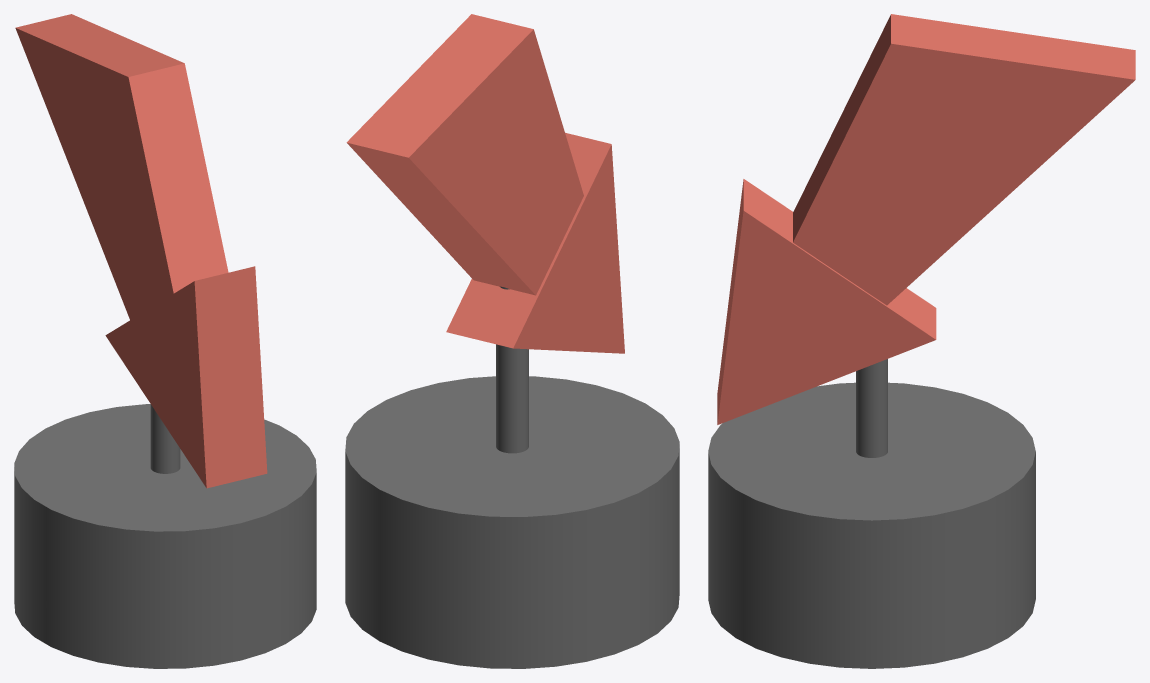
File: PowerUpSmall.fbx
The picture shows the model from 3 angles, left to right: view 1: azimuth 30°, elevation 25°; view 2: azimuth 150°, elevation 25°; view 3: azimuth 270°, elevation 25°; orthographic projection. The views are drawn at different scales.
Parts seen in each view (by area): view 1: PowerUpSmall; view 2: PowerUpSmall; view 3: PowerUpSmall.
Boxes of the visible parts, <box> form: PowerUpSmall: <box>14,14,316,668</box>; PowerUpSmall: <box>345,14,679,668</box>; PowerUpSmall: <box>708,14,1135,668</box>.
Bounding box in the file's own units: 59.71 × 115 × 77.92.
